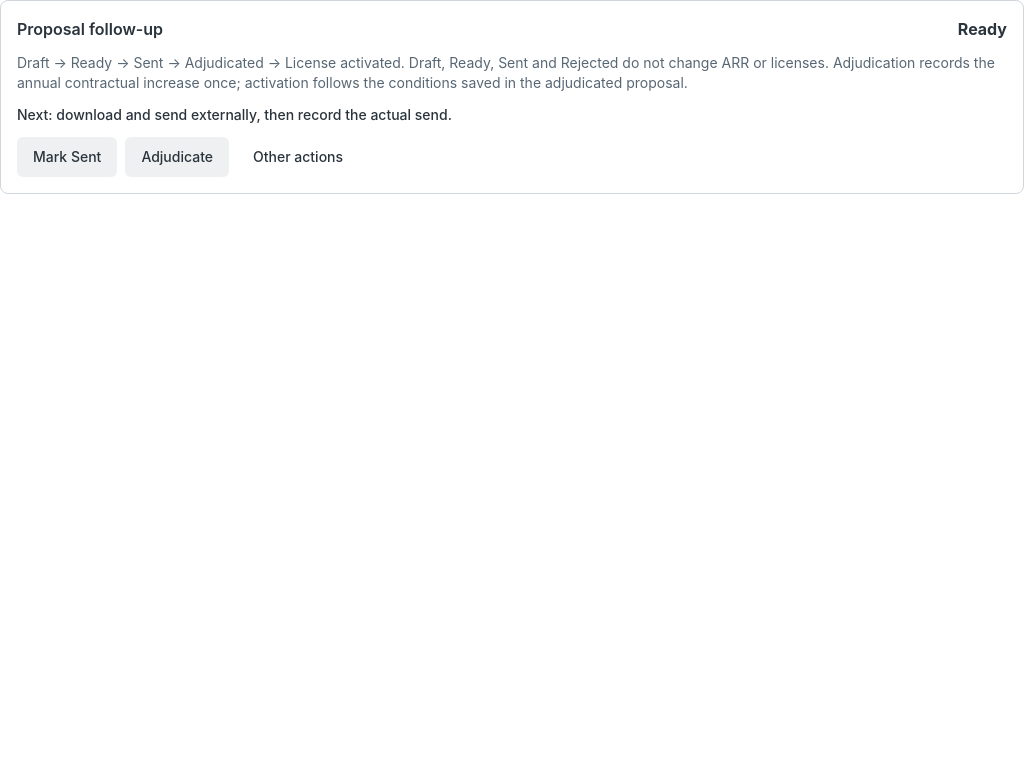
Test: Addition workflow UI › requires evidence before adjudicating and never invokes activation
Later steps or results of the test are not shown.
Step 1. Click the button "Adjudicate" → {"x": 177, "y": 157}, box [125,137,229,177]
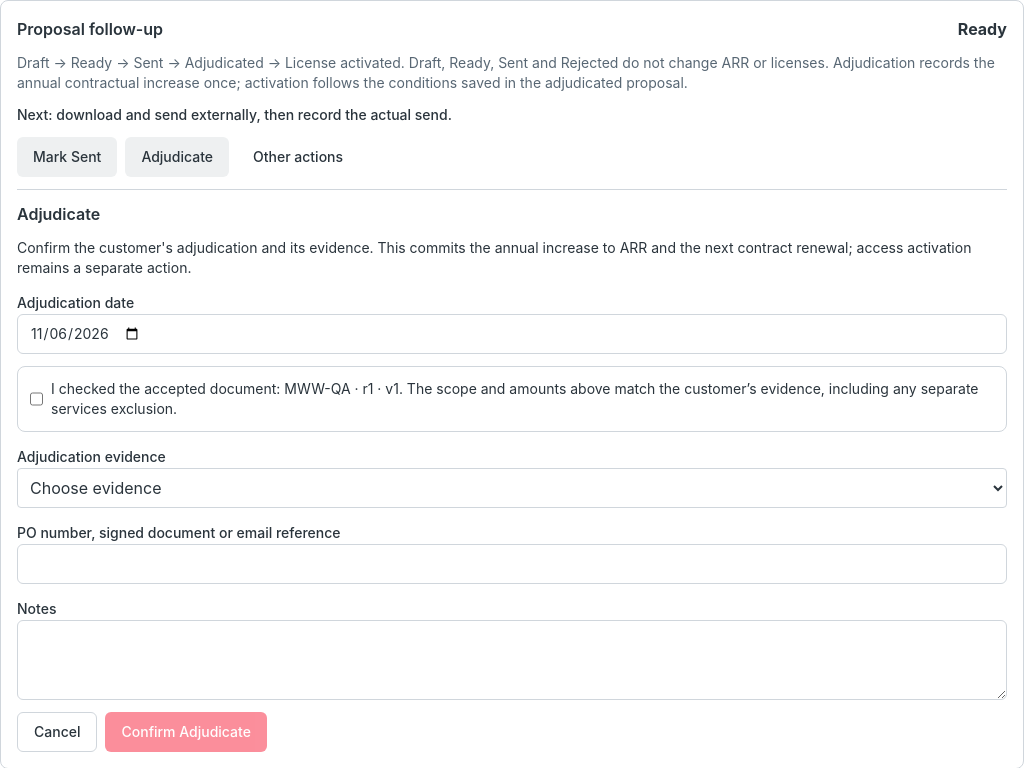
Now the button "Confirm Adjudicate" is disabled, box [106,712,267,752]
Step 2. Select "Purchase order" in the dropdown labelled "Adjudication evidence" → {"x": 512, "y": 488}, box [17,468,1007,508]
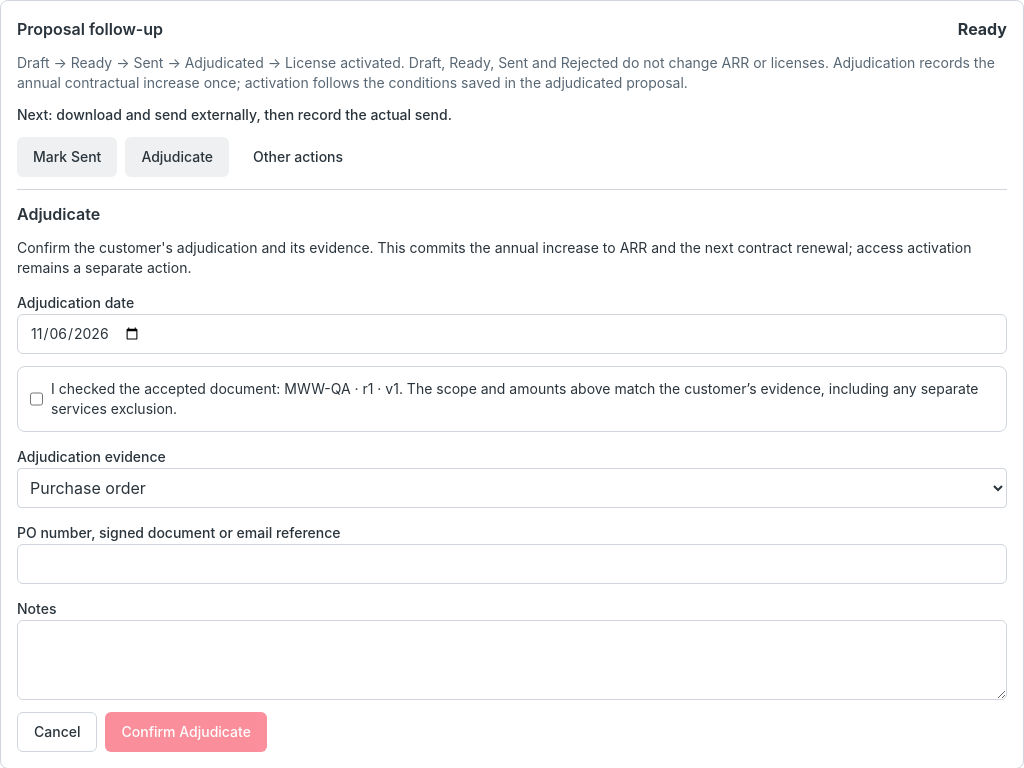
Now the button "Confirm Adjudicate" is disabled, box [106,712,267,752]
